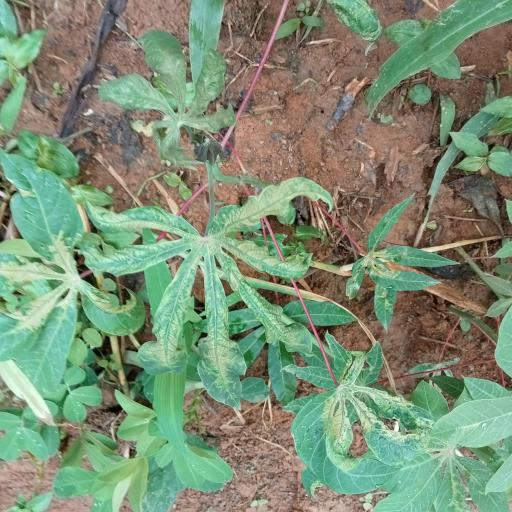Cassava_Mosaic: (88, 176, 328, 411), (296, 354, 410, 463)
